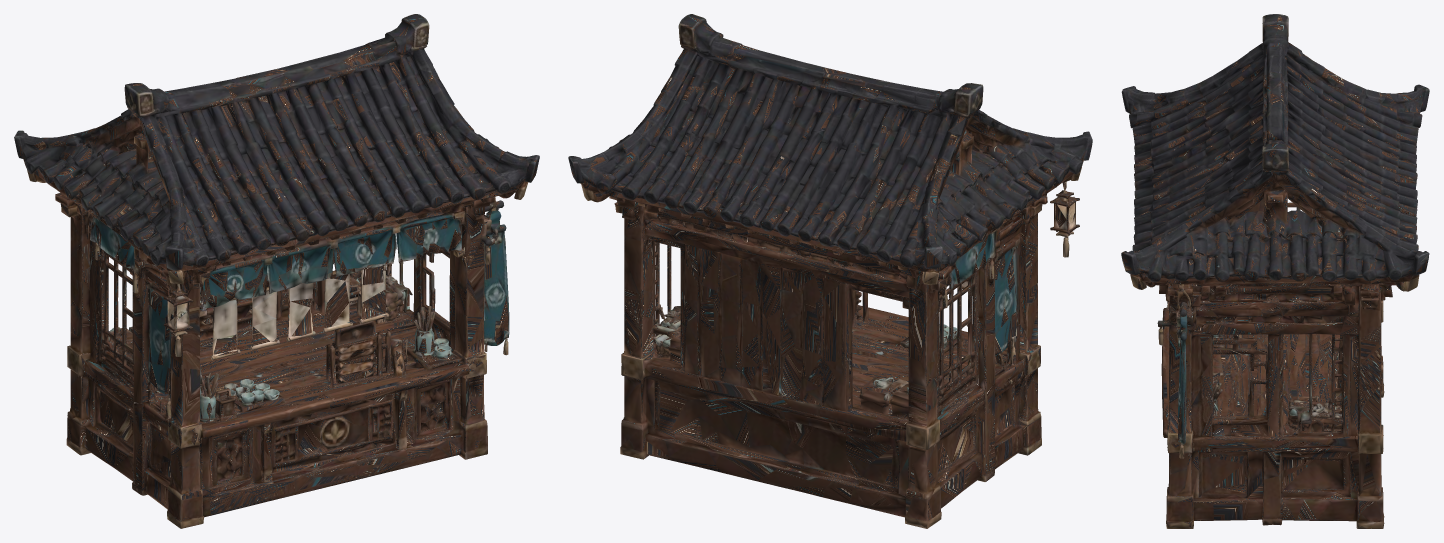
The model's file is front.glb.
3 views of the same model, side by side, from view 1: azimuth 30°, elevation 25°; view 2: azimuth 150°, elevation 25°; view 3: azimuth 270°, elevation 25° (orthographic). The views are drawn at different scales.
Bounding box in the file's own units: 1.88 × 1.9 × 1.41.
Materials: 1 (1 with a texture image).
